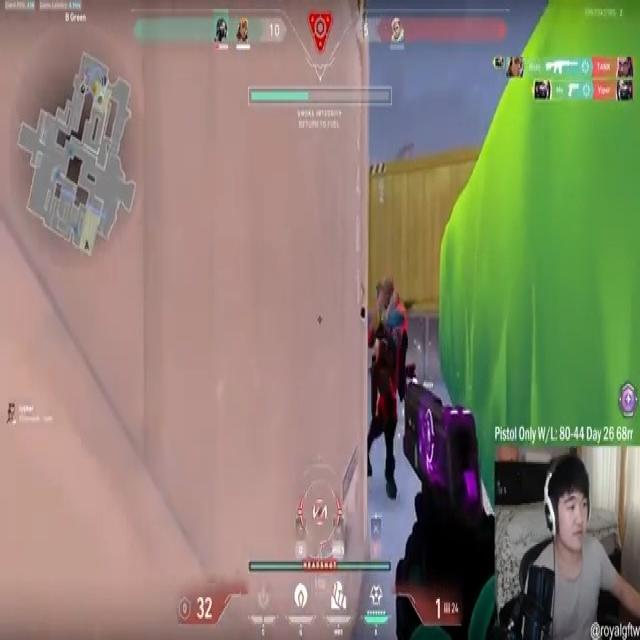enemy: (367, 276, 410, 504)
